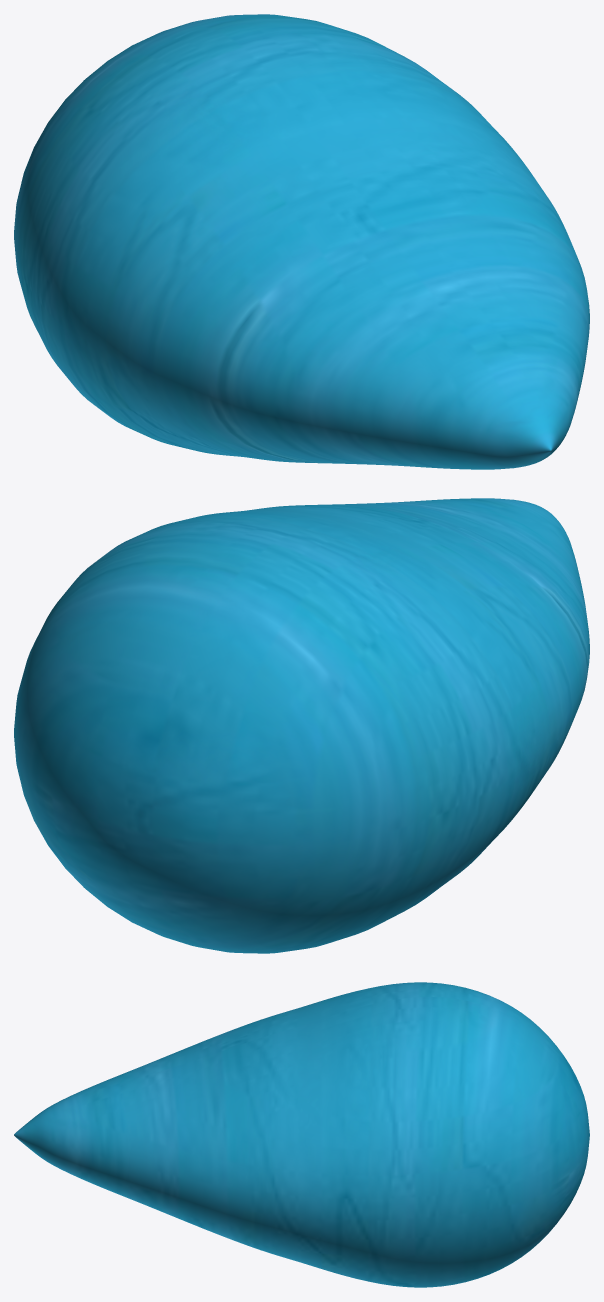
Rendered from bala_pistola_agua.obj.
The picture shows the model from 3 angles, top to bottom: view 1: azimuth 30°, elevation 25°; view 2: azimuth 150°, elevation 25°; view 3: azimuth 270°, elevation 25°; orthographic projection. The views are drawn at different scales.
Visible parts, largest first — view 1: pSphere1; view 2: pSphere1; view 3: pSphere1.
Boxes of the visible parts, left/top/right/bottom form: pSphere1: left=14, top=14, right=589, bottom=469; pSphere1: left=14, top=498, right=589, bottom=953; pSphere1: left=14, top=982, right=589, bottom=1287.
Size of the model in its own units: 0.211 by 0.1719 by 0.3353.
Materials: 1 (1 with a texture image).
